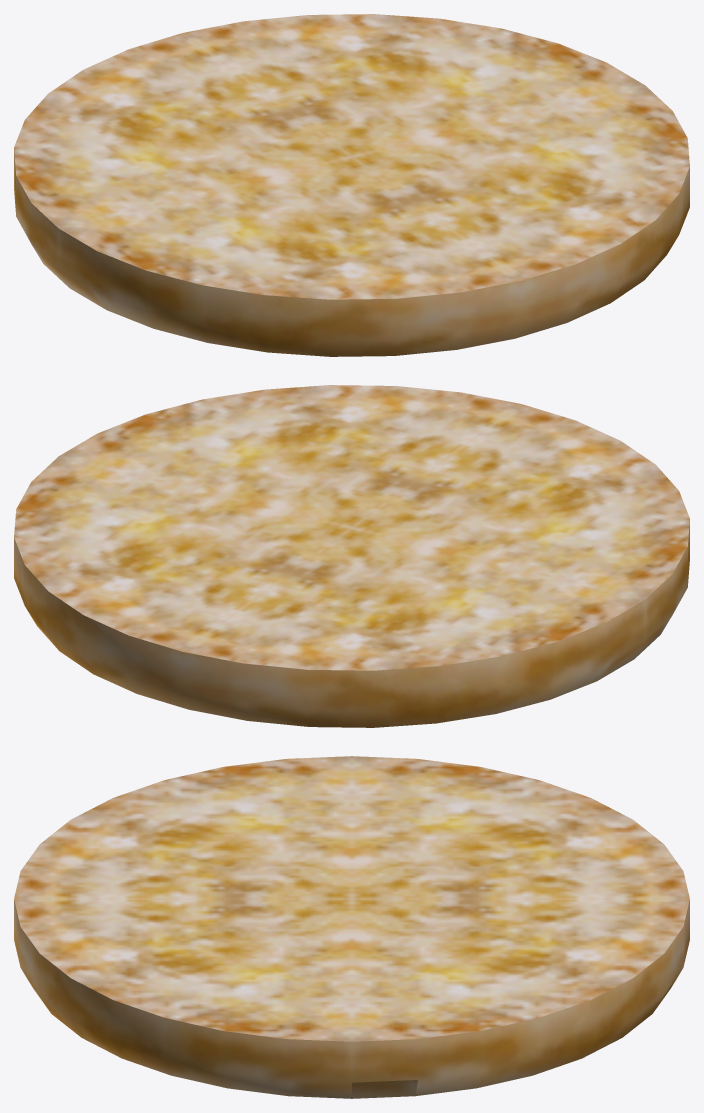
File: Yen.obj
The picture shows the model from 3 angles, top to bottom: view 1: azimuth 30°, elevation 25°; view 2: azimuth 150°, elevation 25°; view 3: azimuth 270°, elevation 25°; orthographic projection.
Parts seen in each view (by area): view 1: polygon0; view 2: polygon0; view 3: polygon0.
Part boxes in pixels (x1,y1,x2,y2): polygon0: (14,14,689,356); polygon0: (14,385,689,727); polygon0: (14,756,689,1098).
Size of the model in its own units: 3.34 by 0.3403 by 3.34.
Materials: 1 (1 with a texture image).
